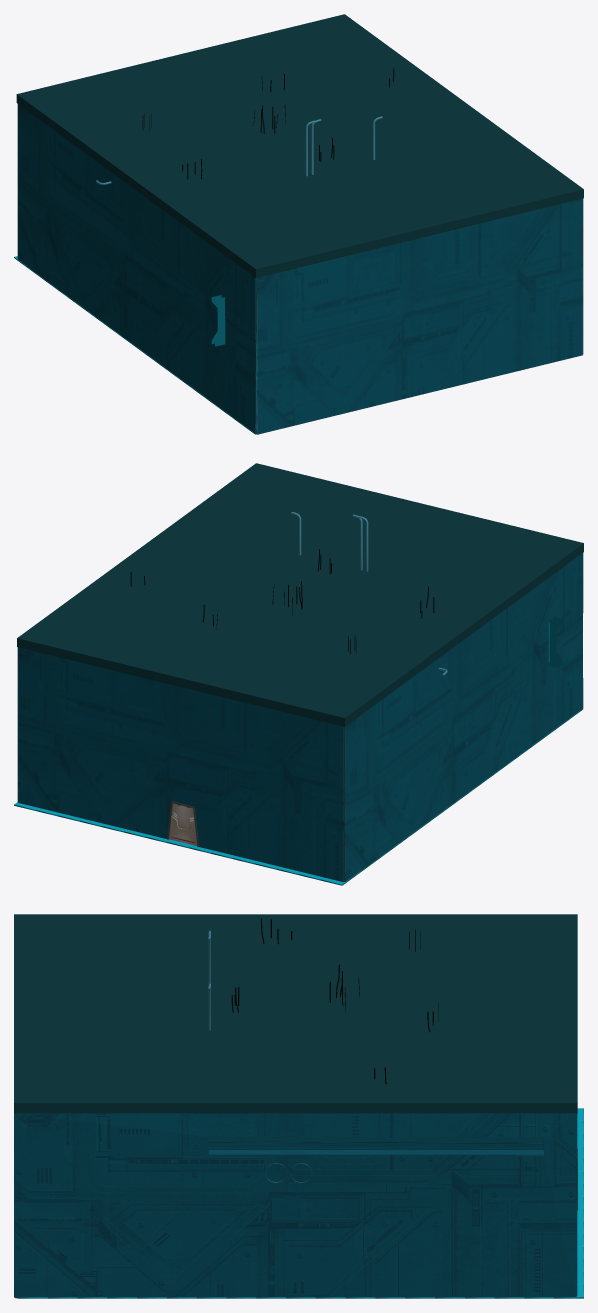
File: Lab.fbx
The picture shows the model from 3 angles, top to bottom: view 1: azimuth 30°, elevation 25°; view 2: azimuth 150°, elevation 25°; view 3: azimuth 270°, elevation 25°; orthographic projection. The views are drawn at different scales.
Parts seen in each view (by area): view 1: Cube.068, Cube.071, Cube.070; view 2: Cube.068, Cube.034, Cube.070, Cube.026, Cube.073; view 3: Cube.068, Cube.077, Cube.026.
Part boxes in pixels (x1,y1,x2,y2): Cube.068: (16,14,583,277); Cube.071: (256,198,582,434); Cube.070: (17,104,256,434); Cube.068: (17,463,583,726); Cube.034: (18,647,344,882); Cube.070: (344,553,583,881); Cube.026: (14,709,582,885); Cube.073: (547,616,562,668); Cube.068: (14,914,577,1113); Cube.077: (15,1113,576,1298); Cube.026: (18,1108,583,1298).
Size of the model in its own units: 1627 by 999 by 1958.
